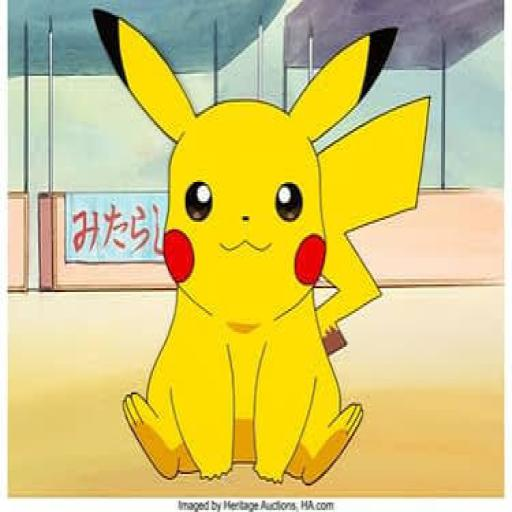Pikachu: (91, 8, 431, 486)
